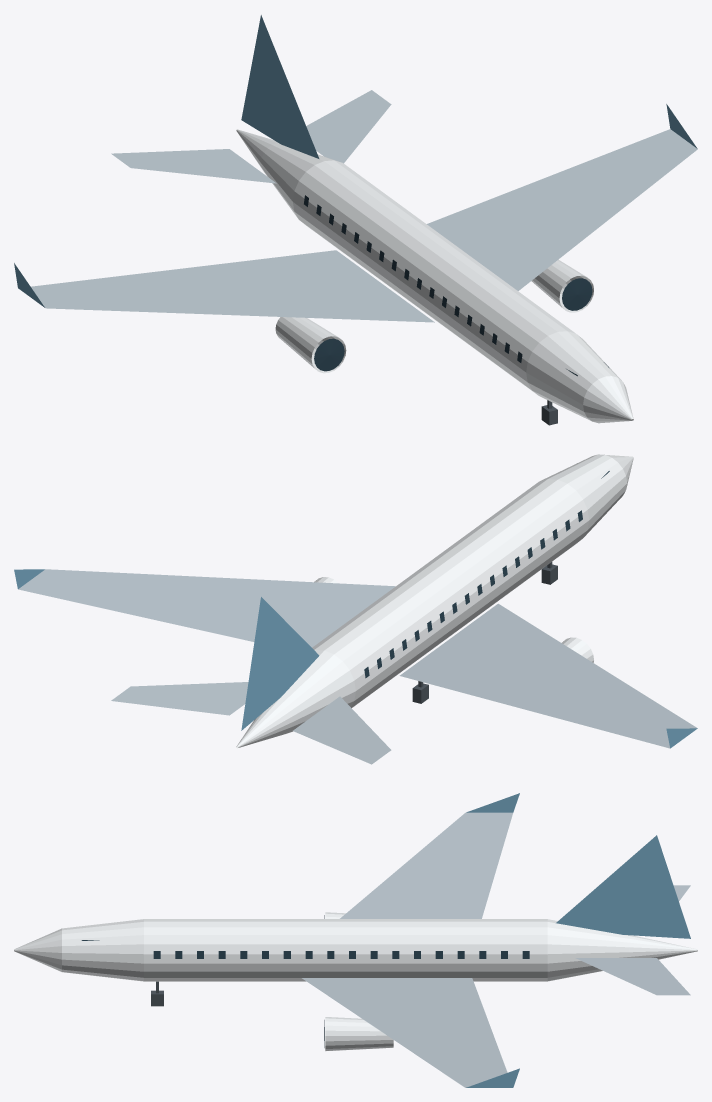
Rendered from b787-AAL.gltf.
3 renders of one model, top to bottom at view 1: azimuth 30°, elevation 25°; view 2: azimuth 150°, elevation 25°; view 3: azimuth 270°, elevation 25°, orthographic. The views are drawn at different scales.
Visible parts, largest first — view 1: object 1; view 2: object 1, Gear; view 3: object 1.
Boxes of the visible parts, left/top/right/bottom form: object 1: left=14, top=15, right=697, bottom=423; object 1: left=14, top=454, right=697, bottom=764; Gear: left=412, top=562, right=557, bottom=703; object 1: left=14, top=793, right=697, bottom=1087.
Size of the model in its own units: 60 by 17.22 by 63.
